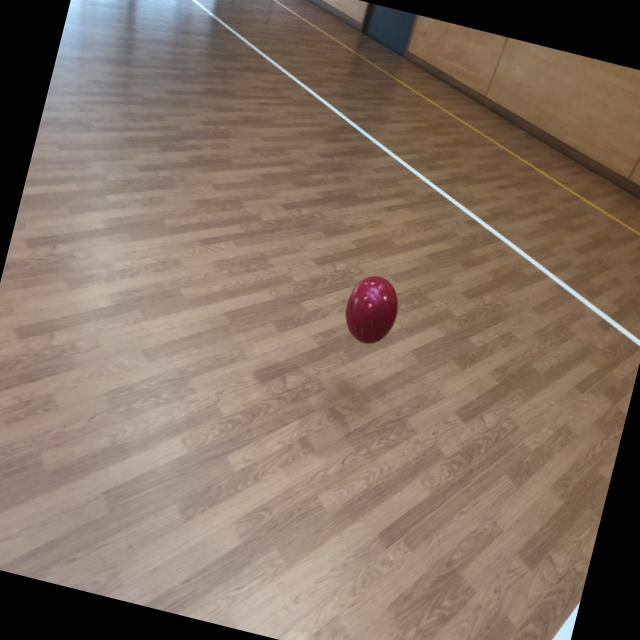red_ball: (338, 270, 404, 348)
